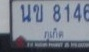txt02: (32, 3, 44, 23)
txt20: (19, 3, 32, 23)
